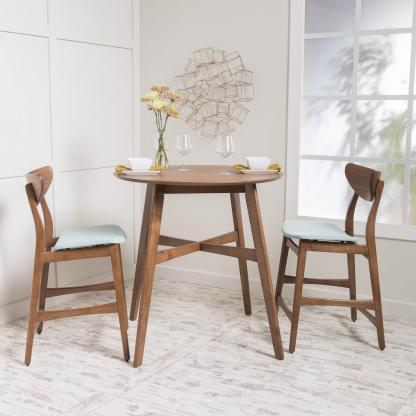chair: (15, 160, 131, 360), (279, 163, 388, 353)
table: (110, 164, 289, 369)
